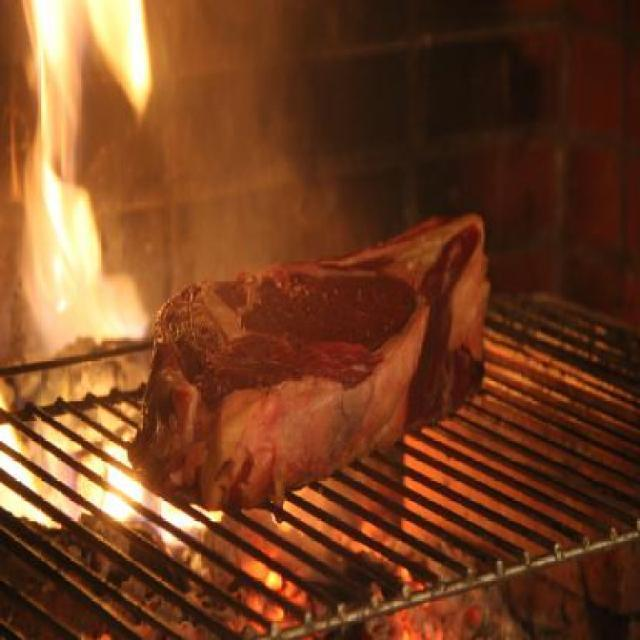Fire: (3, 0, 160, 340)
